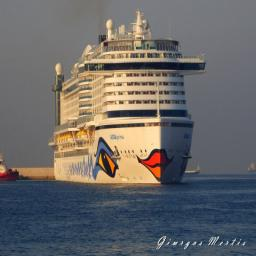cruises: (48, 11, 207, 187)
